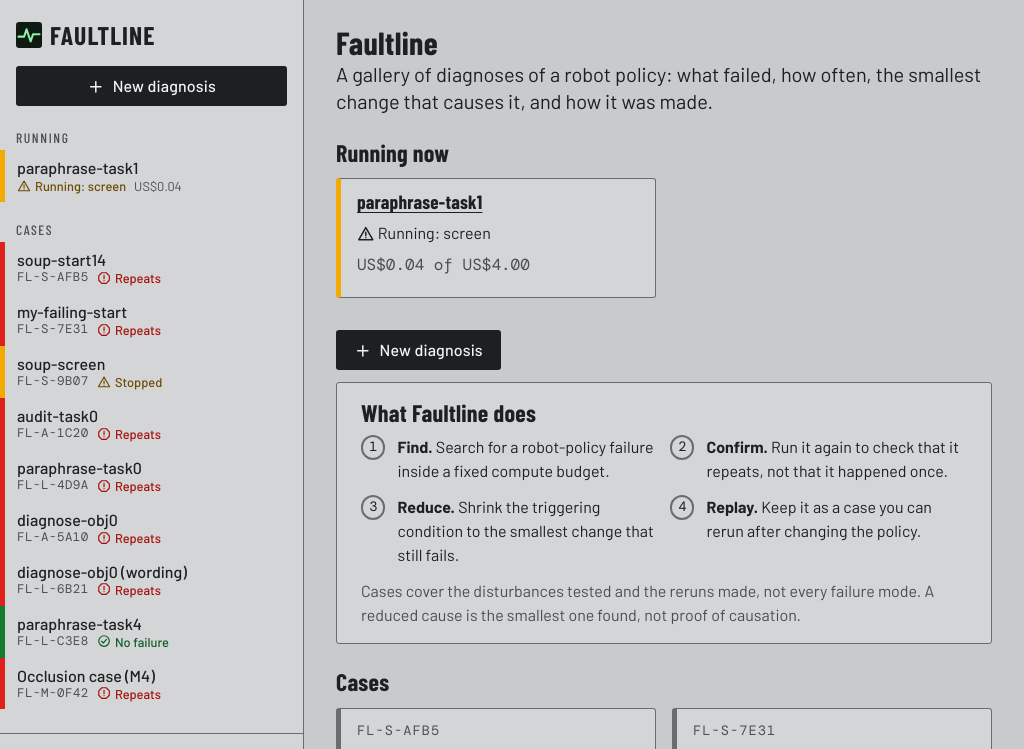
it: keyboard use › opening a case from the sidebar moves focus to the main area, and the title names the case
Click the link "soup-start14 FL-S-AFB5 Repeats". click: (152,268)
box: [0,242,303,294]
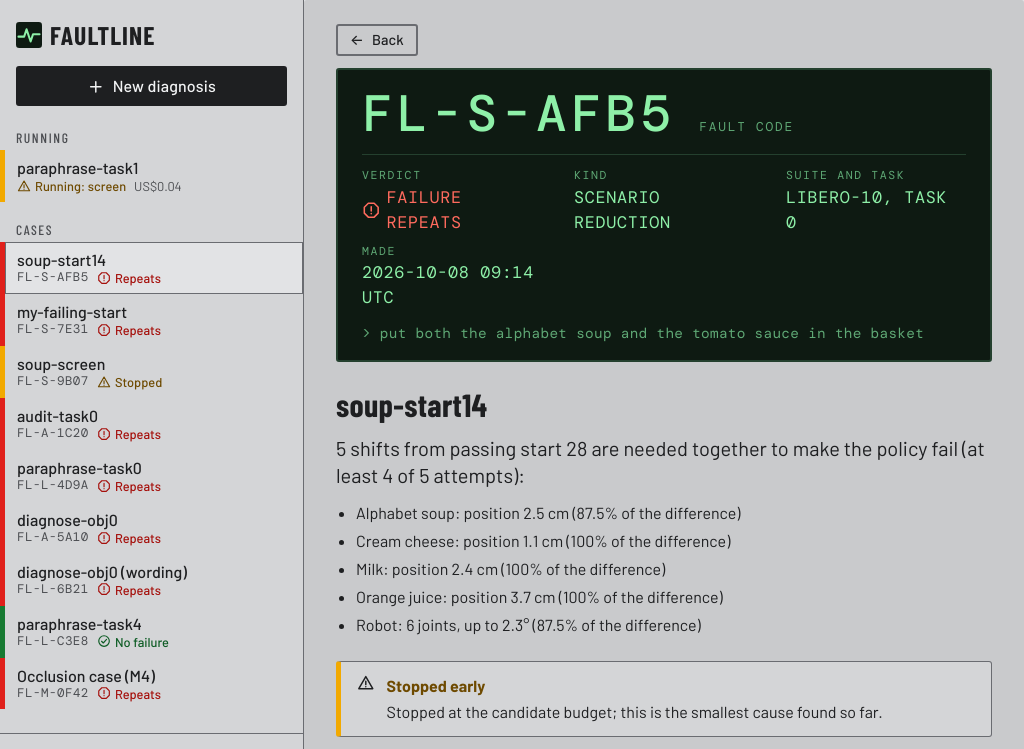
Check: the navigation bar named "Runs and cases" is shown, box [0,122,303,722]
Check: the heading "soup-start14" is shown, box [336,385,487,423]
